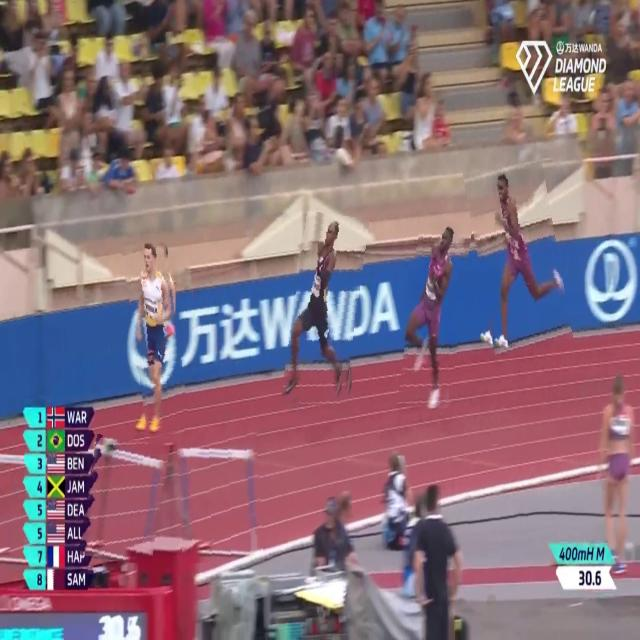athlete: (471, 162, 566, 355), (286, 213, 362, 407), (402, 219, 467, 411), (128, 237, 184, 436)
hurdle: (177, 431, 262, 563), (82, 437, 166, 563)
